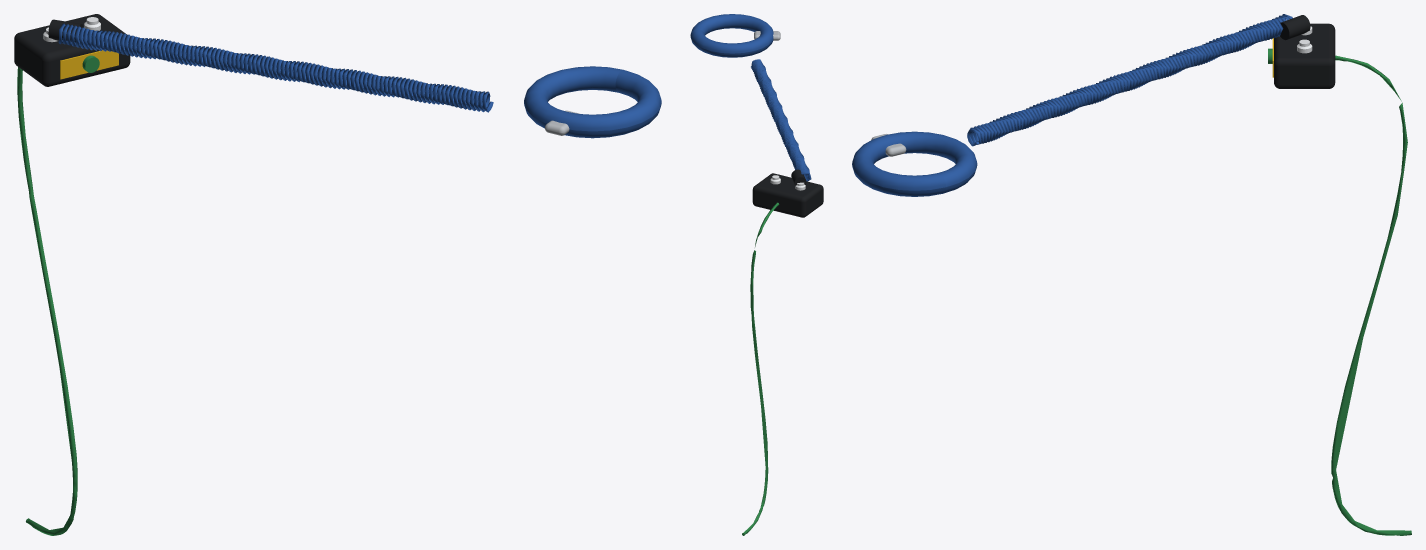
File: esd-strap.glb
The picture shows the model from 3 angles, left to right: view 1: azimuth 30°, elevation 25°; view 2: azimuth 150°, elevation 25°; view 3: azimuth 270°, elevation 25°; orthographic projection. The views are drawn at different scales.
Visible parts, largest first — view 1: esd_cord, esd_band, esd_ground_box, esd_ground_wire, esd_label; view 2: esd_band, esd_ground_box, esd_cord, esd_ground_wire; view 3: esd_cord, esd_band, esd_ground_box, esd_ground_wire.
Part boxes in pixels (x1,y1,x2,y2): esd_cord: (58, 23, 493, 112); esd_band: (524, 66, 661, 138); esd_ground_box: (14, 14, 130, 86); esd_ground_wire: (17, 67, 77, 535); esd_label: (60, 50, 118, 79); esd_band: (690, 14, 773, 57); esd_ground_box: (752, 173, 823, 217); esd_cord: (751, 59, 811, 181); esd_ground_wire: (742, 202, 779, 535); esd_cord: (967, 14, 1292, 146); esd_band: (852, 131, 977, 196); esd_ground_box: (1274, 23, 1335, 88); esd_ground_wire: (1331, 55, 1411, 535).
Bounding box in the file's own units: 0.281 × 0.368 × 0.3662.
